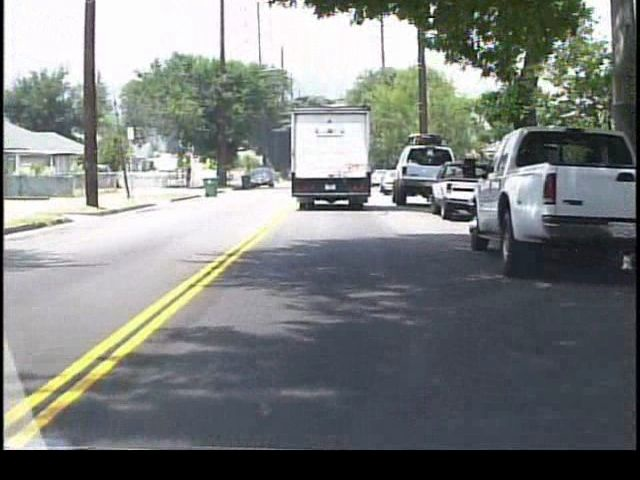person: (185, 163, 195, 188)
